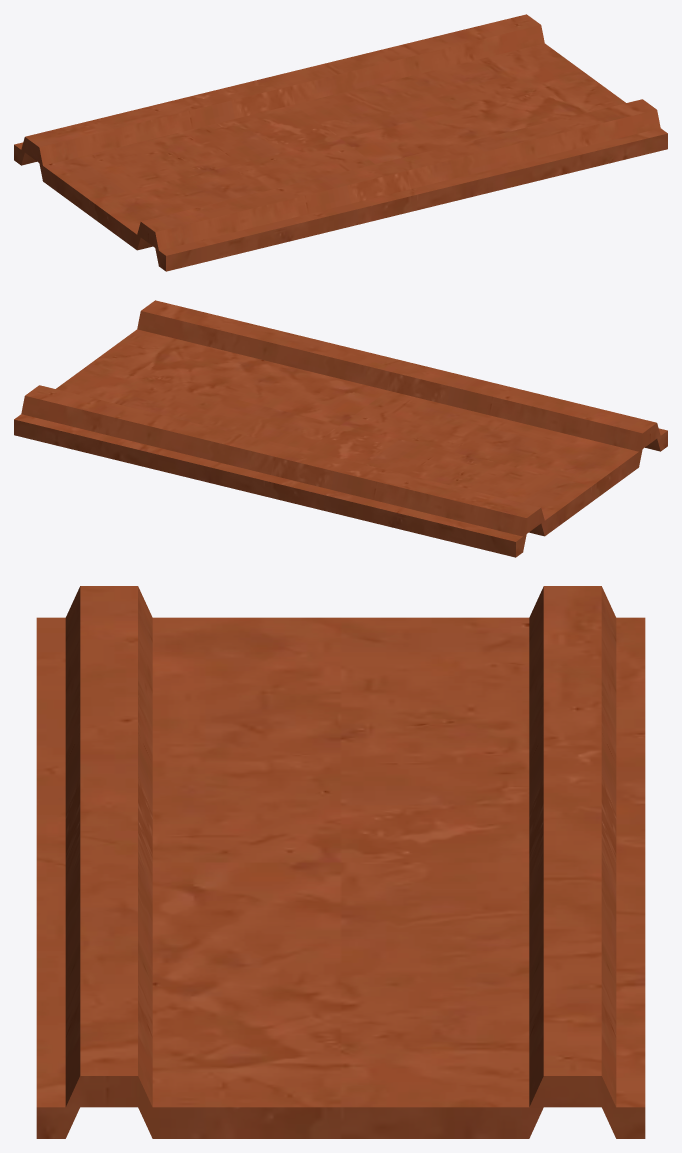
File: COB-CER-004.glb
The picture shows the model from 3 angles, top to bottom: view 1: azimuth 30°, elevation 25°; view 2: azimuth 150°, elevation 25°; view 3: azimuth 270°, elevation 25°; orthographic projection. The views are drawn at different scales.
Visible parts, largest first — view 1: COB-CER-004_telha; view 2: COB-CER-004_telha; view 3: COB-CER-004_telha.
Part boxes in pixels (box(x1,y1,x2,y2)): COB-CER-004_telha: box(14, 14, 667, 271); COB-CER-004_telha: box(14, 300, 667, 557); COB-CER-004_telha: box(36, 586, 645, 1138).
Bounding box in the file's own units: 0.4 × 0.024 × 0.21.
1 material, 1 textured.
